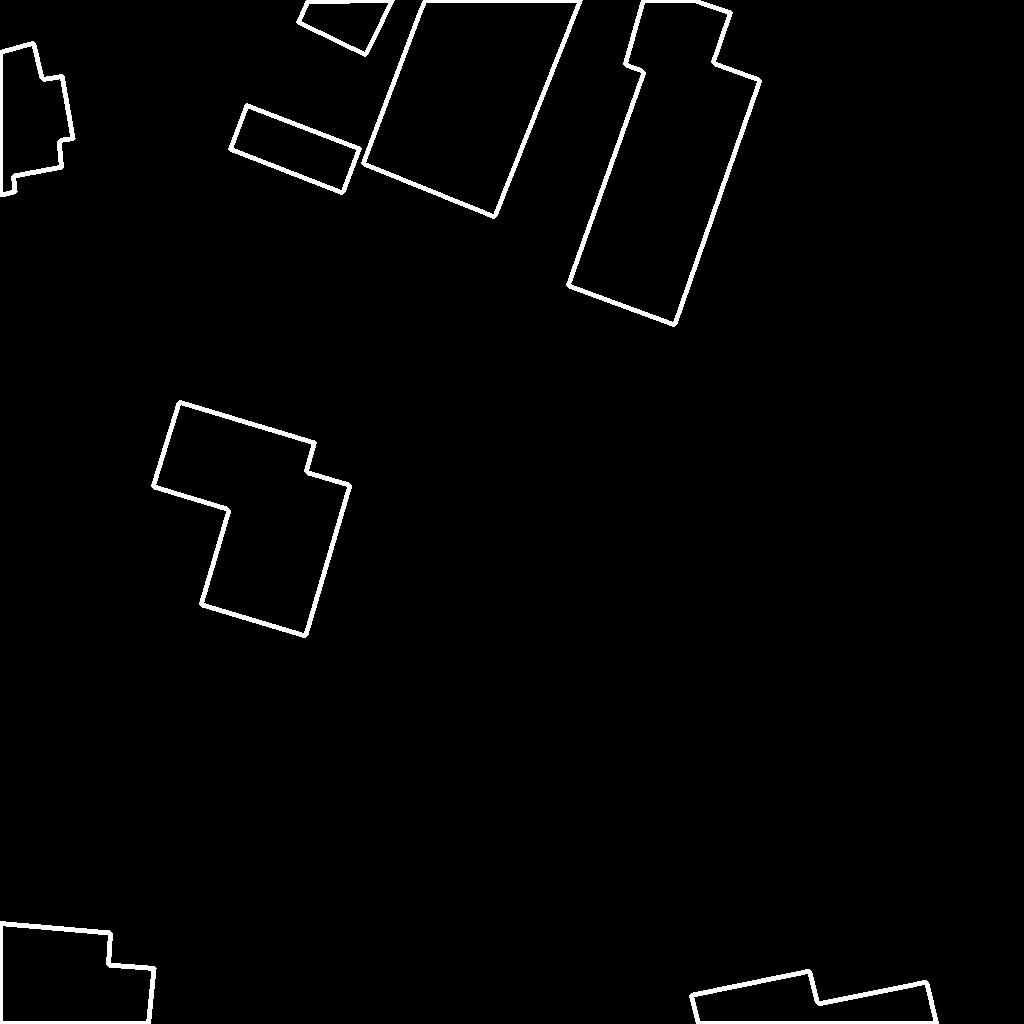building: (568, 0, 761, 326), (363, 0, 582, 218), (153, 402, 351, 637), (0, 923, 155, 1024), (691, 971, 938, 1024), (230, 105, 361, 194), (0, 43, 74, 196), (298, 0, 394, 56)
